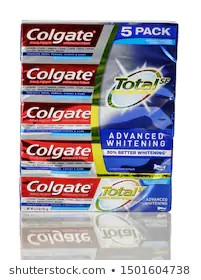colgate-family: (21, 25, 178, 170)
colgate-medium: (17, 172, 173, 218)
